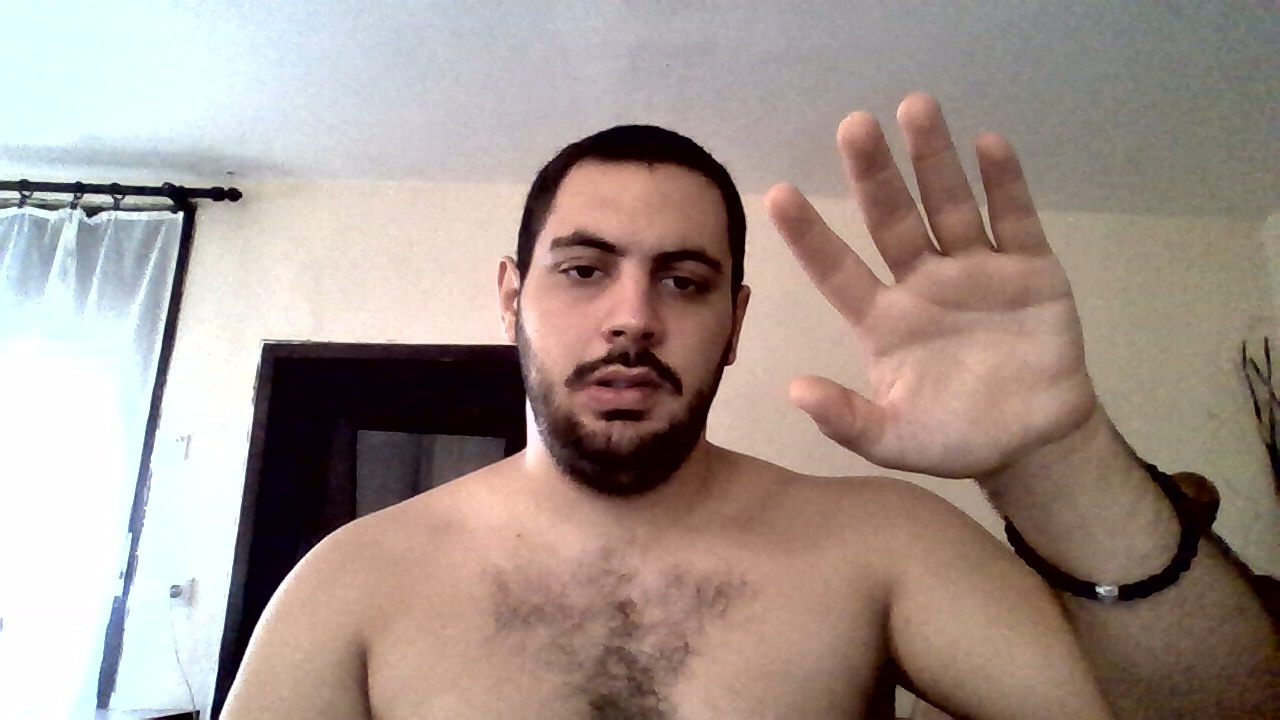palm: (757, 89, 1097, 478)
